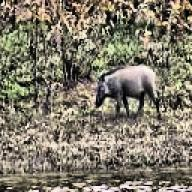boar: (93, 63, 162, 120)
